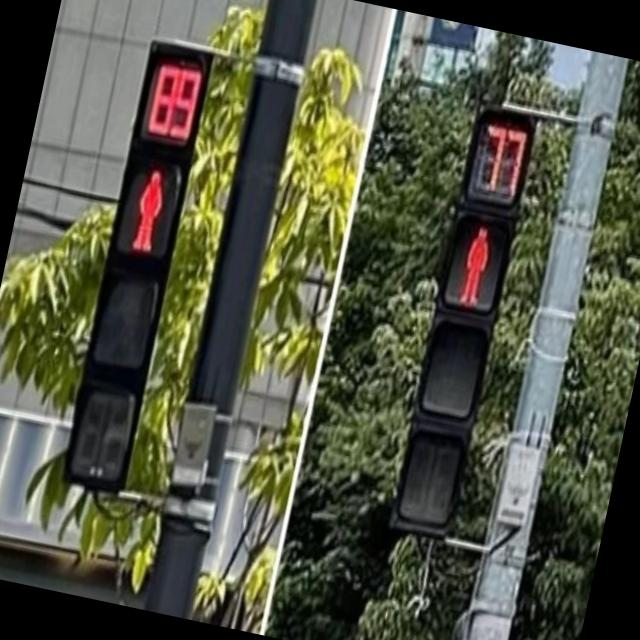red_light: (112, 56, 203, 266), (446, 116, 532, 312)
